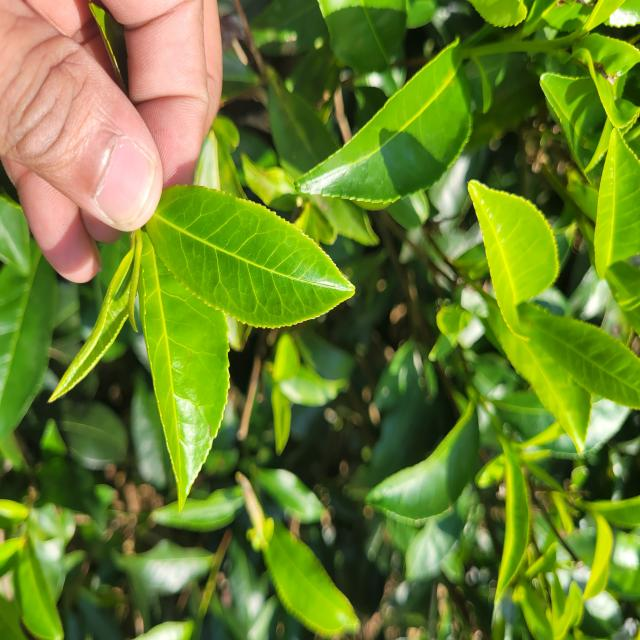Catagory A(1-2 days): (143, 163, 360, 335)
